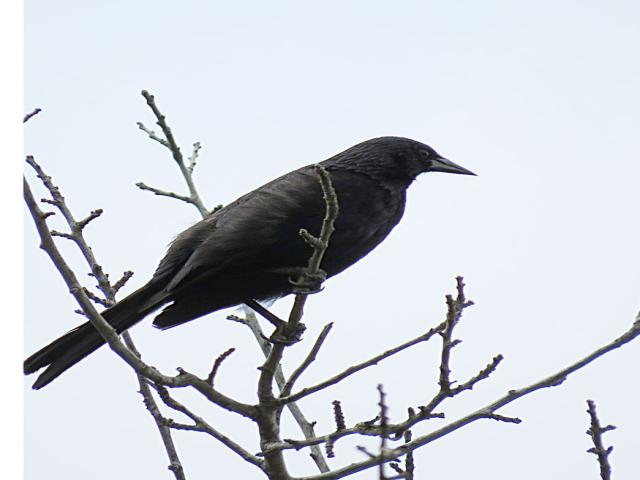Bird: (24, 131, 481, 388)
